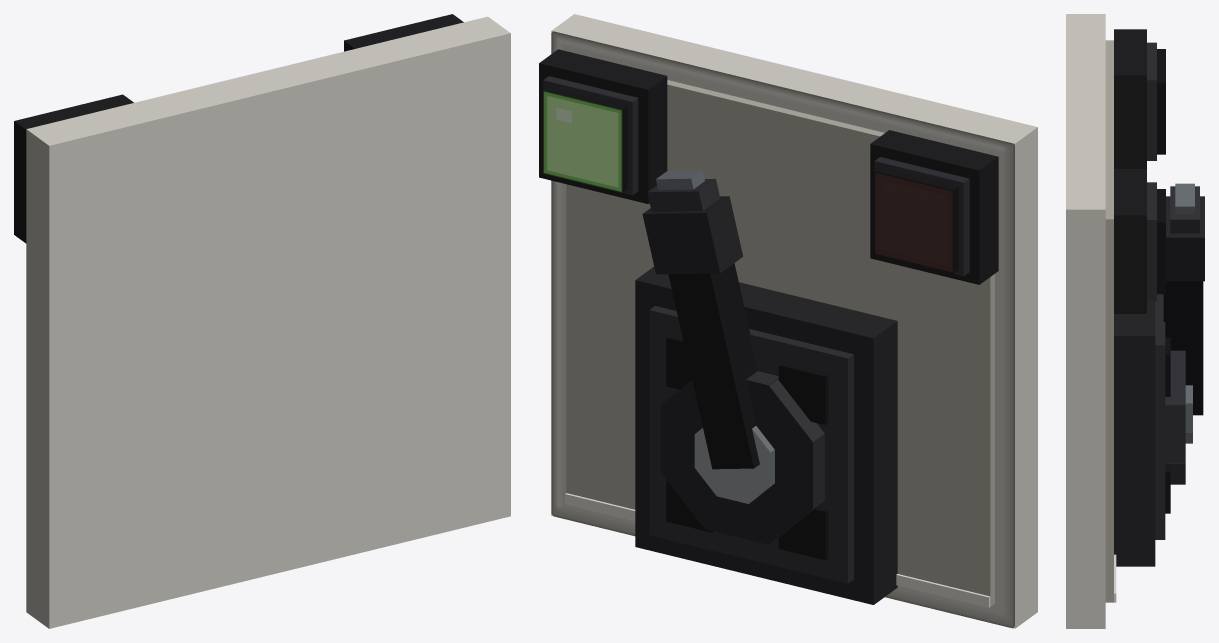
The model's file is lever_switch_open.obj.
3 views of the same model, side by side, from view 1: azimuth 30°, elevation 25°; view 2: azimuth 150°, elevation 25°; view 3: azimuth 270°, elevation 25° (orthographic). The views are drawn at different scales.
Parts seen in each view (by area): view 1: Panel, LampRed, LampGreen; view 2: Panel, Base, Lever, LampRed, LampGreen; view 3: Panel, Base, Lever, LampGreen, LampRed.
Part boxes in pixels (box(x1,y1,x2,y2)): Panel: box(26, 16, 510, 628); LampRed: box(14, 94, 133, 243); LampGreen: box(344, 14, 463, 51); Panel: box(551, 14, 1037, 628); Base: box(635, 266, 897, 604); Lever: box(642, 170, 759, 469); LampRed: box(870, 130, 998, 284); LampGreen: box(539, 49, 667, 203); Panel: box(1066, 14, 1116, 628); Base: box(1114, 294, 1192, 566); Lever: box(1163, 183, 1204, 415); LampGreen: box(1114, 169, 1165, 313); LampRed: box(1114, 29, 1165, 168).
Bounding box in the file's own units: 0.875 × 0.875 × 0.2625.
1 material, 1 textured.
